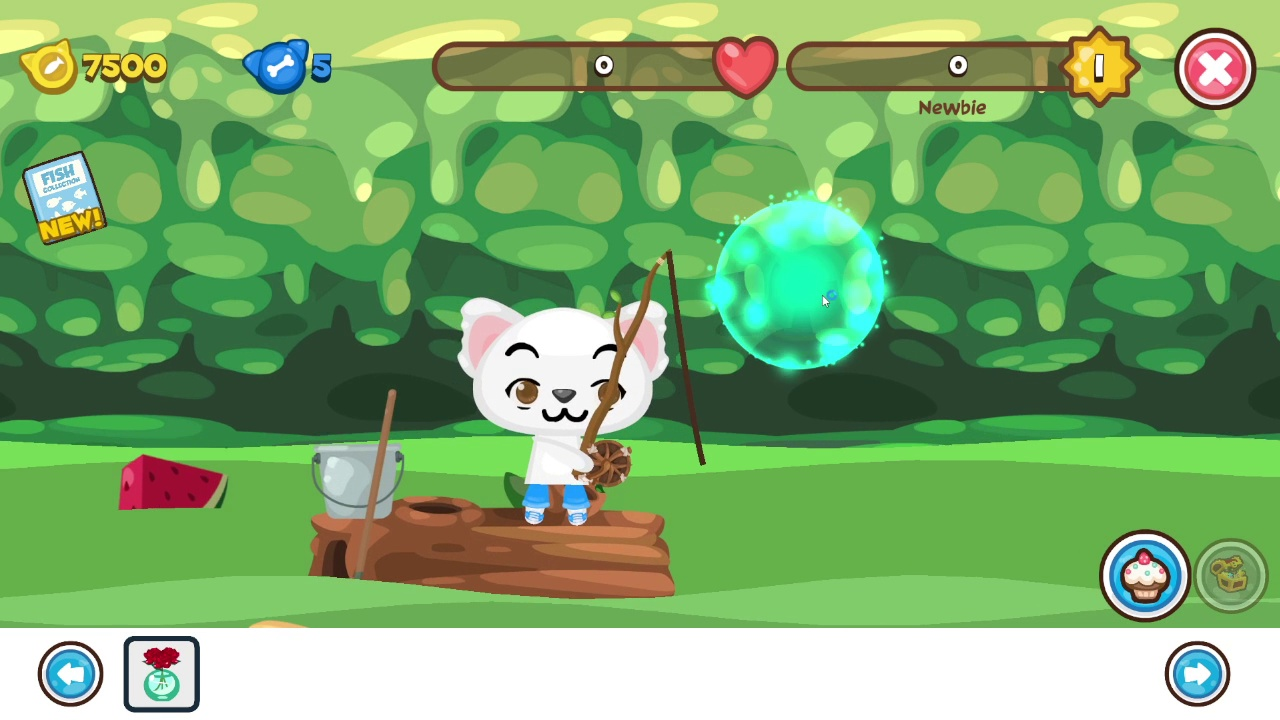point: (714, 198, 888, 372)
